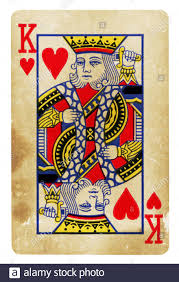king of hearts: (11, 10, 170, 254)
